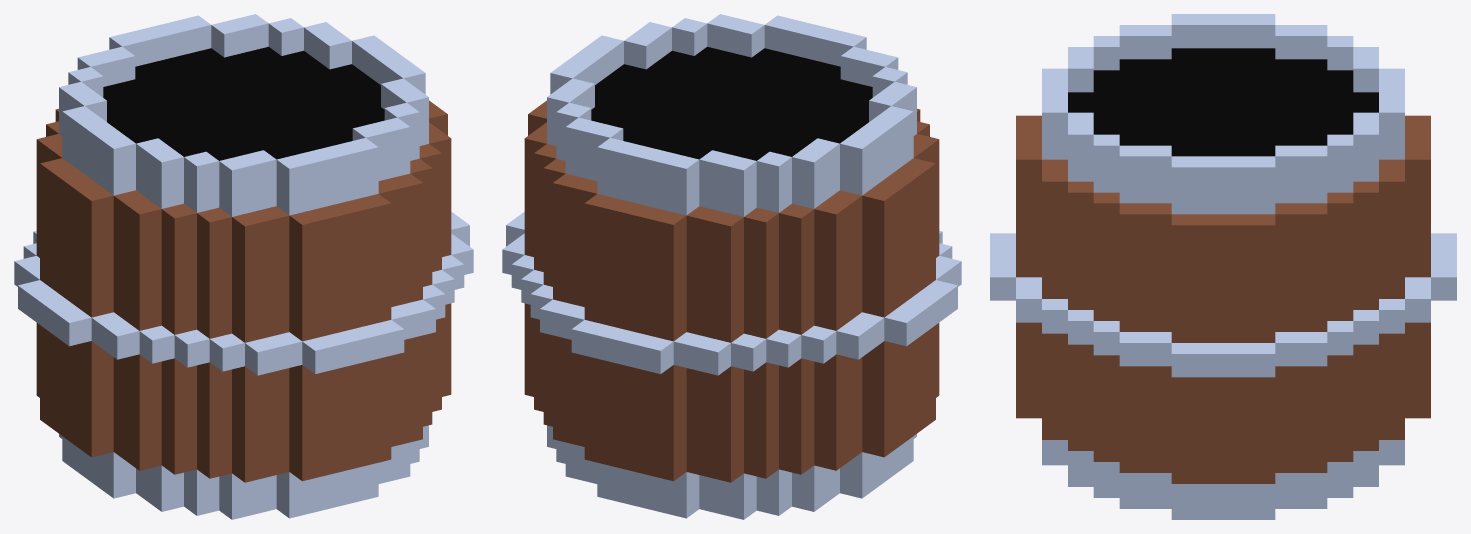
Rendered from Barrel.gltf.
3 renders of one model, left to right at view 1: azimuth 30°, elevation 25°; view 2: azimuth 150°, elevation 25°; view 3: azimuth 270°, elevation 25°, orthographic.
Parts seen in each view (by area): view 1: Layer.1; view 2: Layer.1; view 3: Layer.1.
Boxes of the visible parts, box(x1,y1,x2,y2) form: Layer.1: box(14, 14, 473, 519); Layer.1: box(502, 14, 961, 519); Layer.1: box(990, 14, 1456, 519).
Bounding box in the file's own units: 18 × 15 × 18.
Materials: 1 (1 with a texture image).
